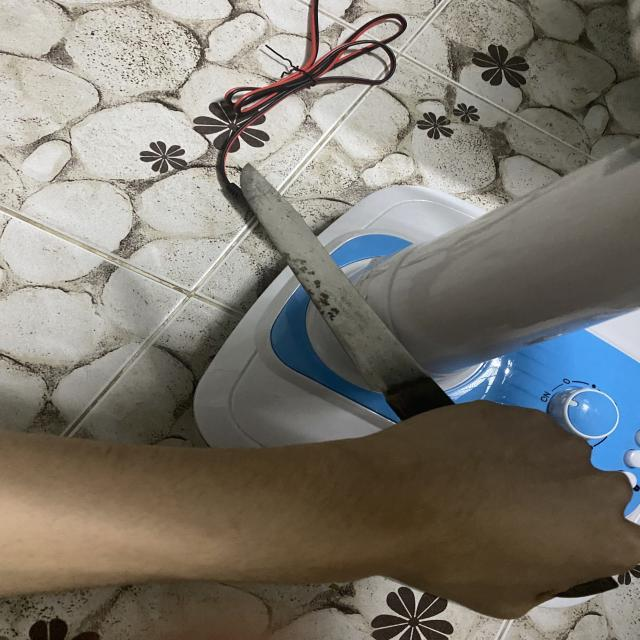faca: (210, 138, 635, 626)
